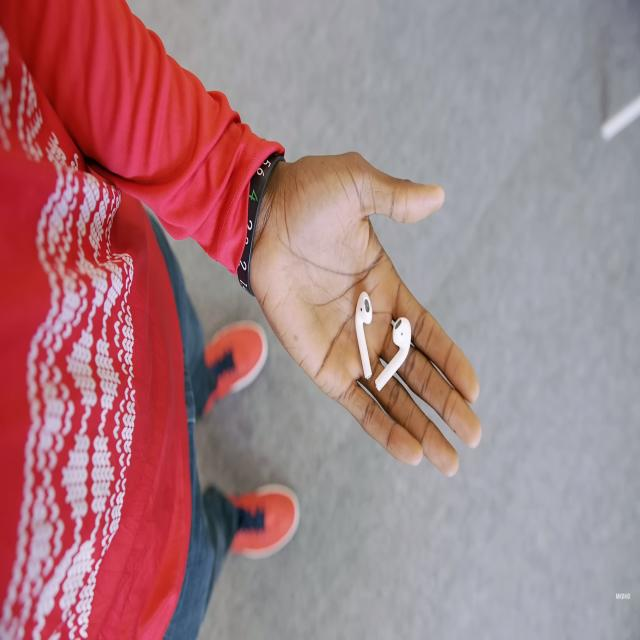airpods: (374, 316, 412, 393), (355, 290, 373, 381)
